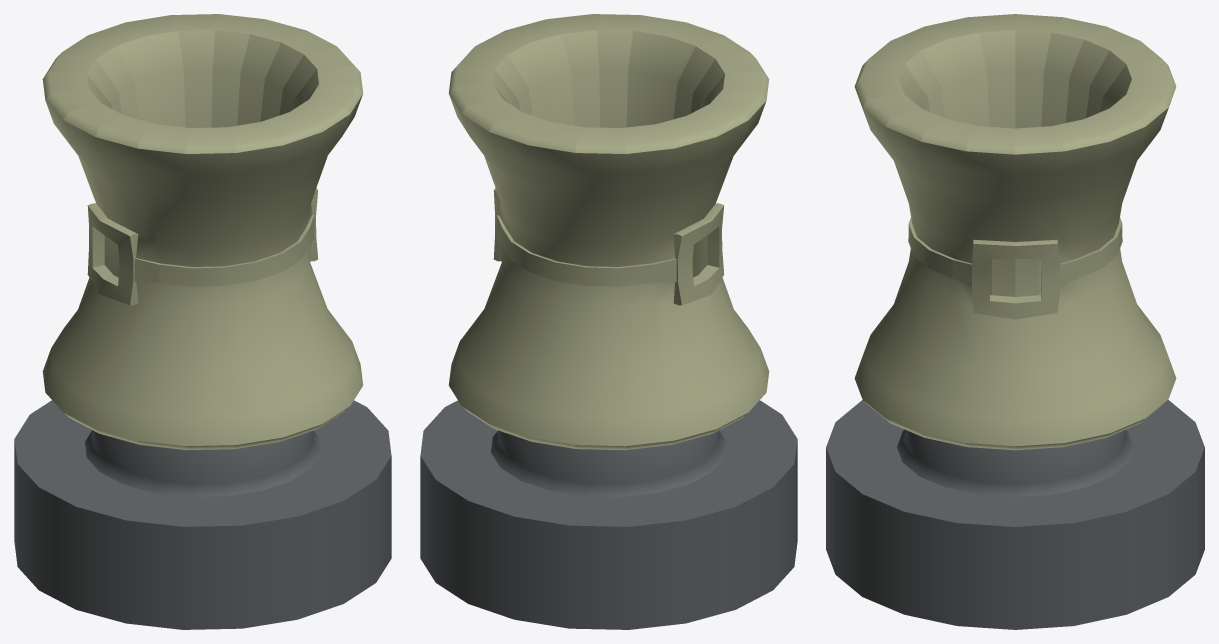
The model's file is millstone.fbx.
The picture shows the model from 3 angles, left to right: view 1: azimuth 30°, elevation 25°; view 2: azimuth 150°, elevation 25°; view 3: azimuth 270°, elevation 25°; orthographic projection.
Visible parts, largest first — view 1: Mill, Base; view 2: Mill, Base; view 3: Mill, Base.
Part boxes in pixels (bbox=[...]): Mill: bbox=[42, 14, 363, 450]; Base: bbox=[14, 400, 391, 629]; Mill: bbox=[448, 14, 769, 450]; Base: bbox=[420, 400, 797, 629]; Mill: bbox=[854, 14, 1176, 450]; Base: bbox=[826, 400, 1204, 629].
Bounding box in the file's own units: 10 × 13.71 × 10.
